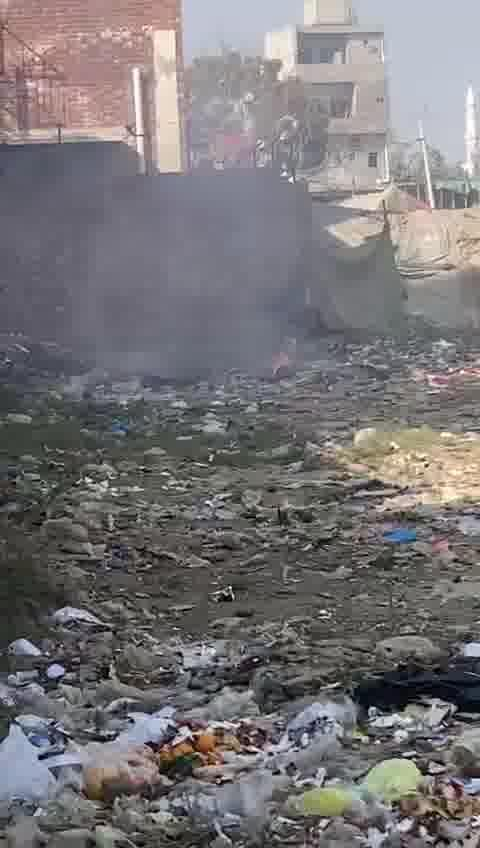garbage: (9, 342, 480, 848)
